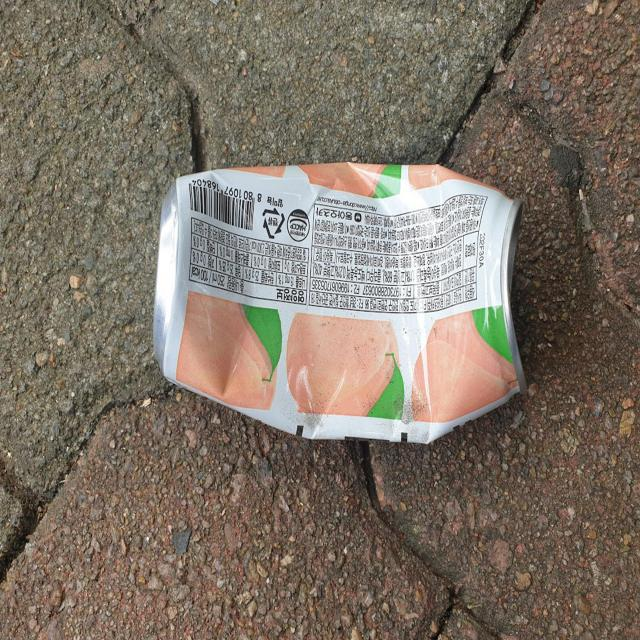can: (153, 162, 526, 443)
